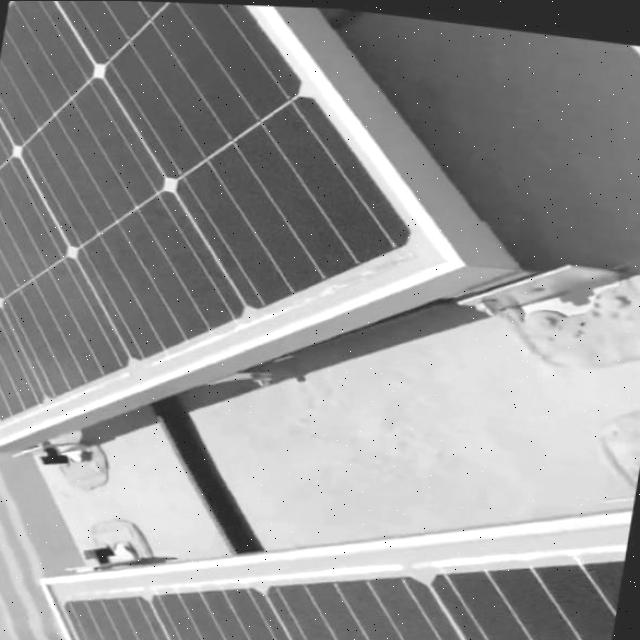Normal Solar Panel: (0, 0, 500, 501), (31, 431, 640, 639)
